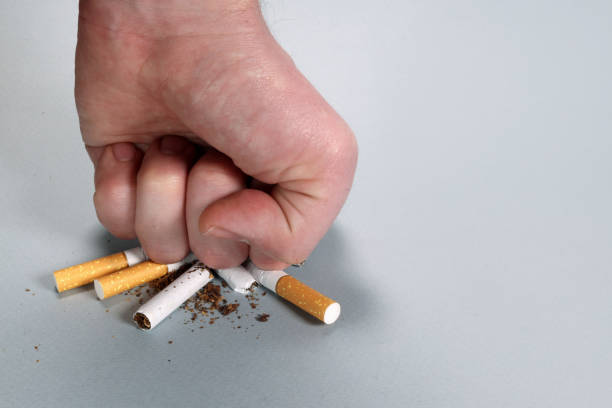cigarette: (241, 258, 342, 326), (130, 261, 214, 334), (51, 240, 151, 298), (91, 250, 198, 302), (217, 263, 259, 296)
